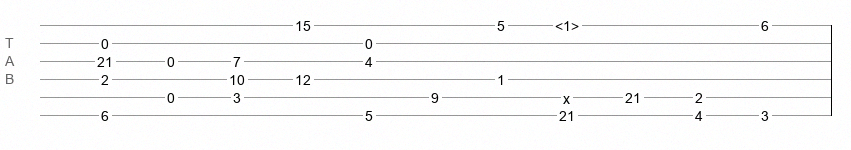0: (101, 36, 109, 46), (167, 54, 175, 64), (167, 90, 175, 100), (365, 36, 373, 46)
1: (497, 72, 505, 82)
10: (229, 72, 245, 82)
12: (295, 72, 311, 82)
15: (295, 18, 311, 28)
2: (101, 72, 109, 82), (695, 90, 703, 100)
21: (97, 54, 113, 64), (559, 108, 575, 118), (625, 90, 641, 100)
3: (233, 90, 241, 100), (761, 108, 769, 118)
4: (365, 54, 373, 64), (695, 108, 703, 118)
5: (365, 108, 373, 118), (497, 18, 505, 28)
6: (101, 108, 109, 118), (761, 18, 769, 28)
7: (233, 54, 241, 64)
9: (431, 90, 439, 100)
harmonic: (555, 18, 579, 28)
x: (563, 91, 570, 99)
